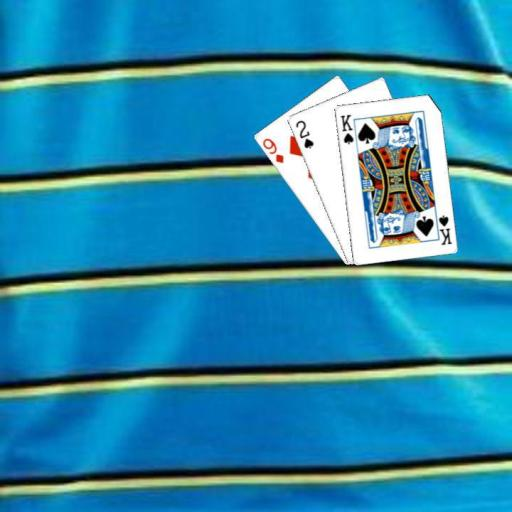2S: (292, 117, 315, 150)
9D: (259, 135, 285, 165)
KS: (432, 210, 453, 246), (337, 111, 355, 146)
